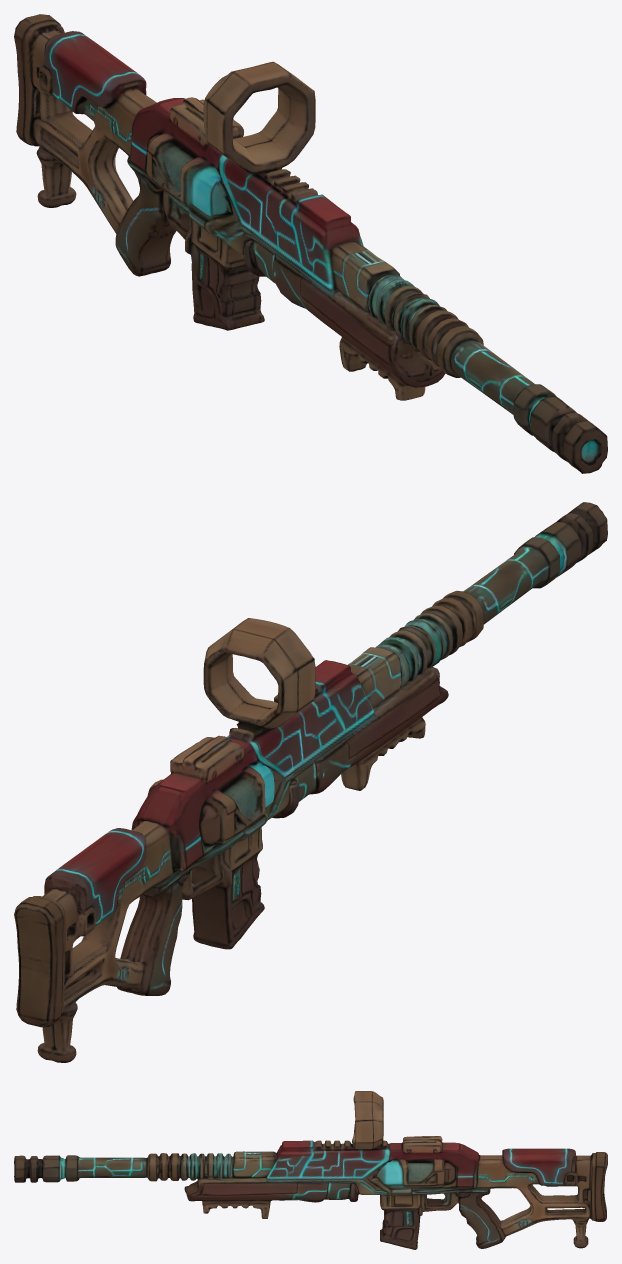
File: base_sniper_shaded.fbx
3 renders of one model, top to bottom at view 1: azimuth 30°, elevation 25°; view 2: azimuth 150°, elevation 25°; view 3: azimuth 270°, elevation 25°, orthographic. The views are drawn at different scales.
Visible parts, largest first — view 1: model; view 2: model; view 3: model.
Part boxes in pixels (<box>): model: <box>14,14,607,473</box>; model: <box>14,502,607,1062</box>; model: <box>14,1091,607,1249</box>.
Size of the model in its own units: 18.22 by 52.75 by 190.
